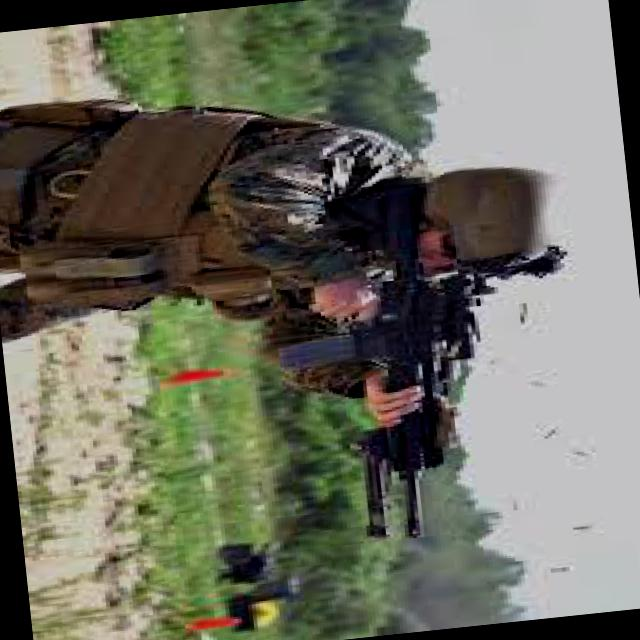long weapon: (260, 166, 526, 542)
